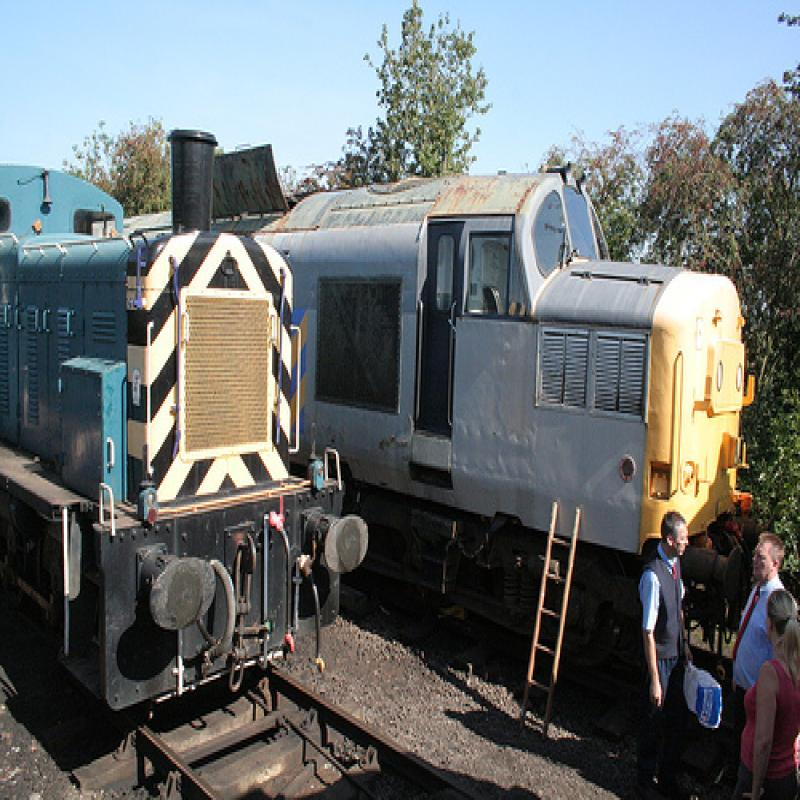train: (91, 138, 758, 671), (1, 131, 371, 715)
